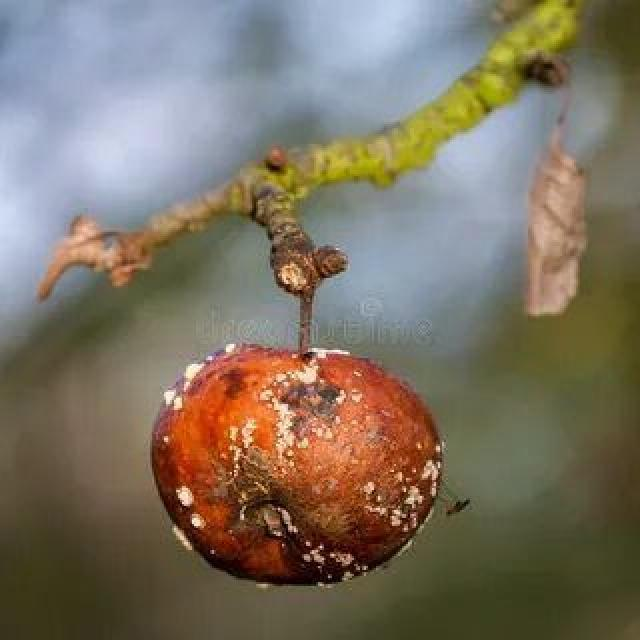Banana: (153, 340, 448, 592)
